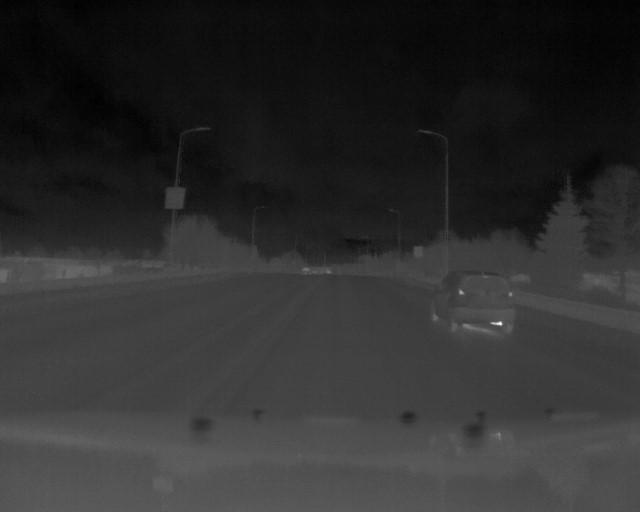car: (428, 273, 518, 336)
